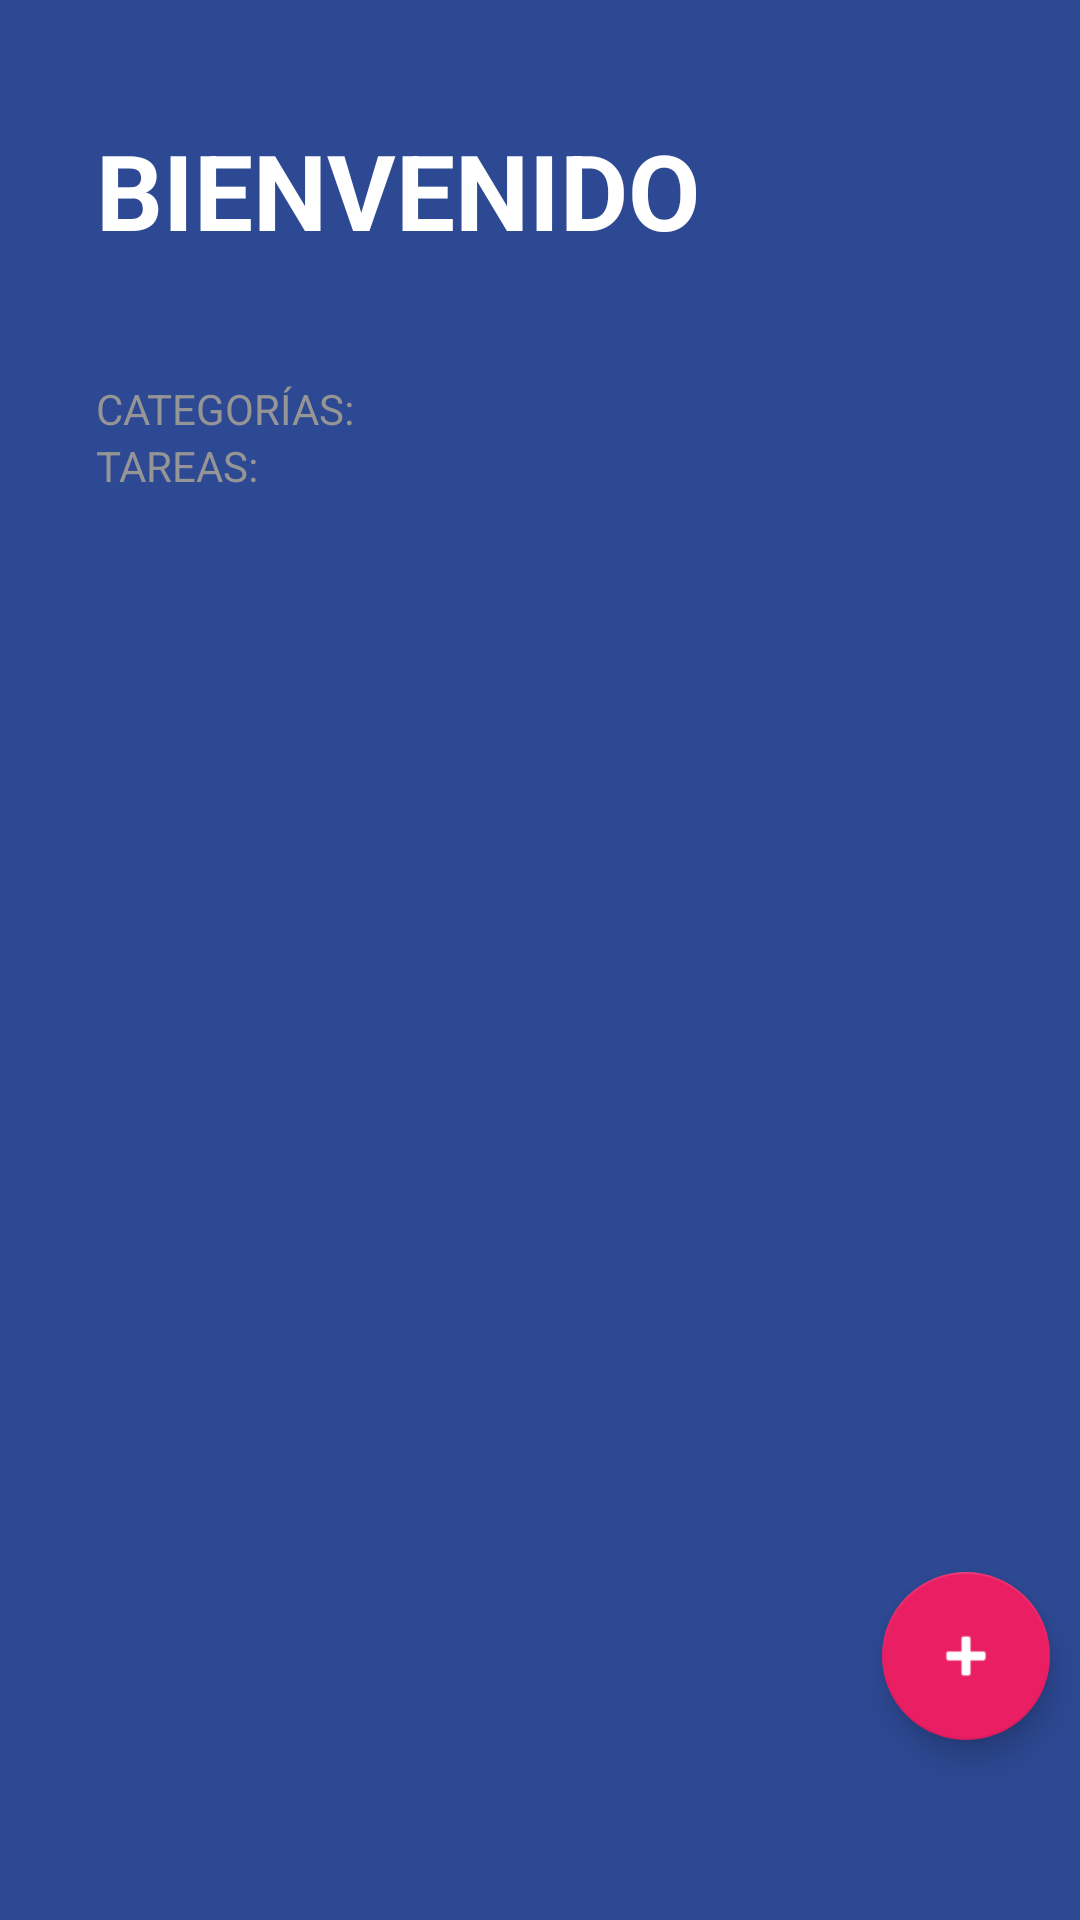

Locate icon controls on the screen. Image size 1080×1920, boxes as (x1, y1, x2, y2).
add: (882, 1572, 1050, 1740)
